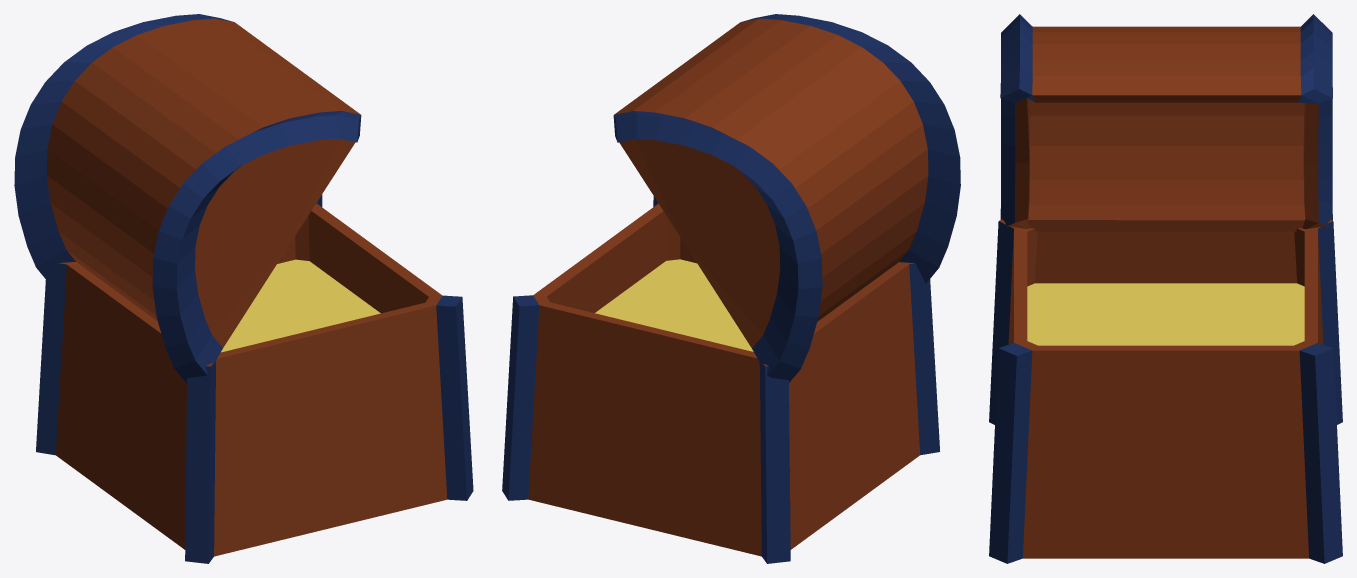
The model's file is chest.fbx.
3 renders of one model, left to right at view 1: azimuth 30°, elevation 25°; view 2: azimuth 150°, elevation 25°; view 3: azimuth 270°, elevation 25°, orthographic. The views are drawn at different scales.
Visible parts, largest first — view 1: Cube, Cube.001; view 2: Cube, Cube.001; view 3: Cube, Cube.001.
Part boxes in pixels (x1,y1,x2,y2): Cube: [36, 194, 473, 563]; Cube.001: [14, 14, 361, 383]; Cube: [502, 196, 939, 563]; Cube.001: [613, 14, 960, 382]; Cube: [989, 219, 1342, 563]; Cube.001: [1000, 14, 1332, 231].
Bounding box in the file's own units: 239 × 298 × 219.
